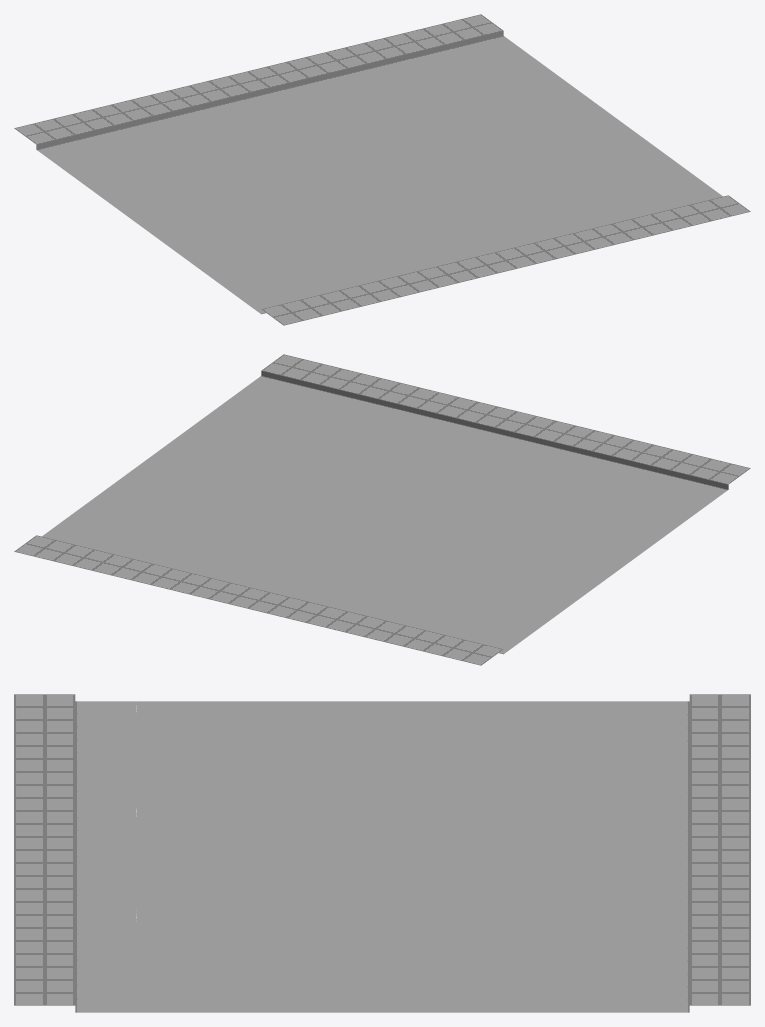
File: Street_Piece Large.gltf
3 renders of one model, top to bottom at view 1: azimuth 30°, elevation 25°; view 2: azimuth 150°, elevation 25°; view 3: azimuth 270°, elevation 25°, orthographic. The views are drawn at different scales.
Visible parts, largest first — view 1: Street Piece Large; view 2: Street Piece Large; view 3: Street Piece Large.
Part boxes in pixels (bbox=[...]): Street Piece Large: bbox=[14, 14, 750, 325]; Street Piece Large: bbox=[14, 354, 750, 665]; Street Piece Large: bbox=[14, 694, 750, 1012].
Size of the model in its own units: 24 by 0.25 by 24.
Materials: 1 (1 with a texture image).
